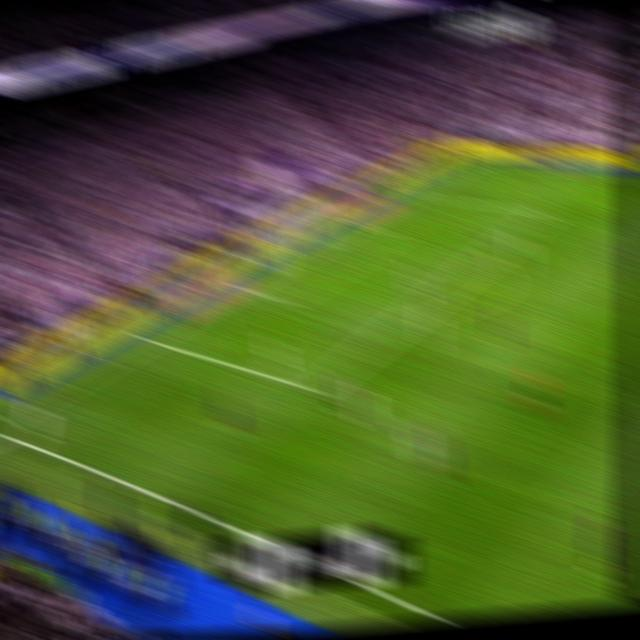bigarea_bottom_inner: (303, 375, 327, 404)
bigarea_bottom_outter: (134, 327, 159, 349)
bigarea_top_inner: (536, 204, 556, 221)
bigarea_top_outter: (397, 184, 418, 200)
bottom_arc_area_intersection: (401, 304, 423, 326)
smallarea_bottom_inner: (274, 288, 296, 310)
smallarea_bottom_outter: (228, 278, 249, 297)
smallarea_top_inner: (386, 225, 403, 238)
top_arc_area_intersection: (480, 245, 503, 263)
